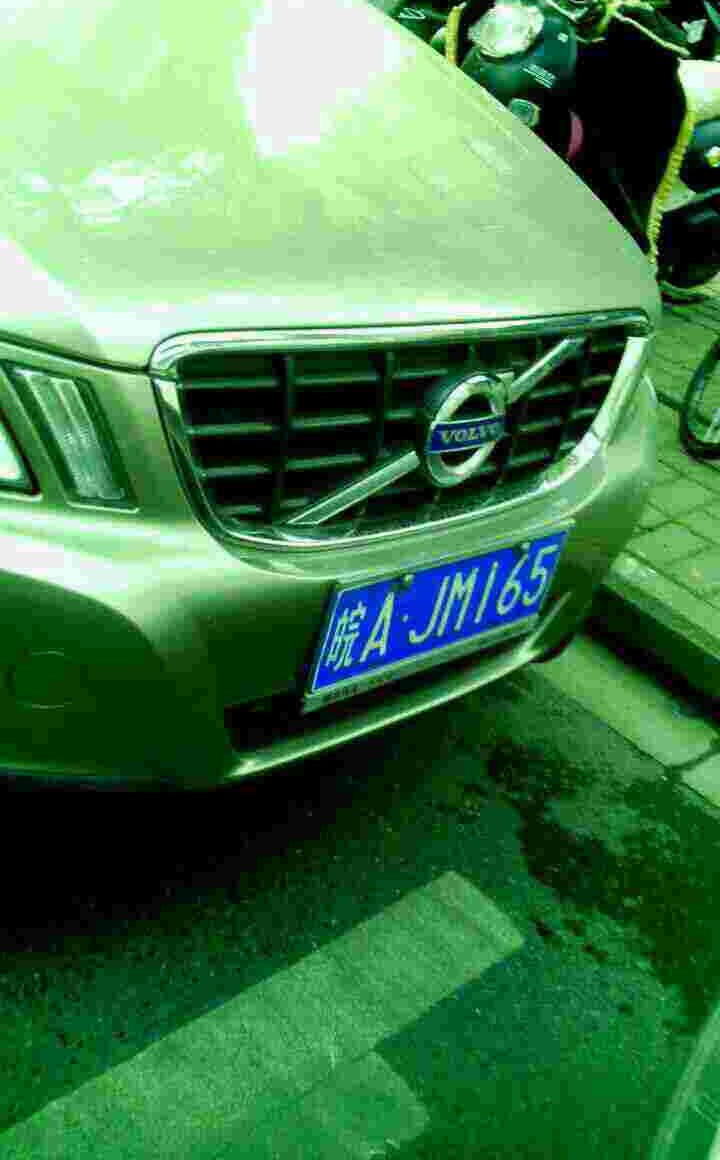car: (320, 559, 562, 655)
